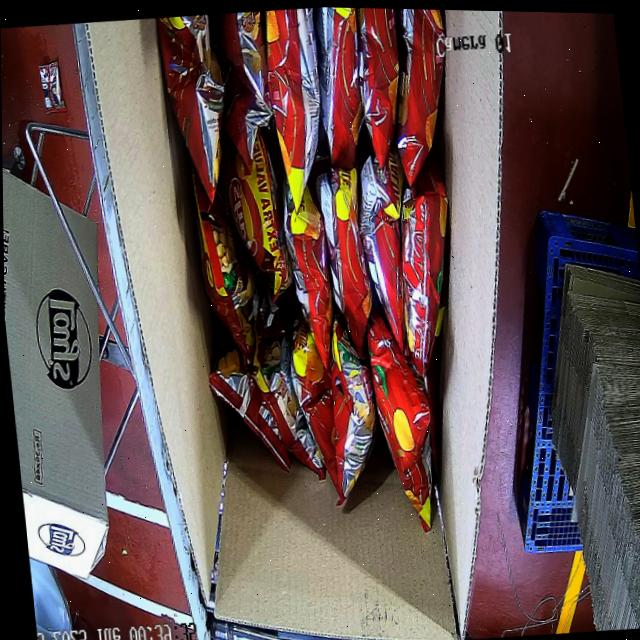MASALA: (154, 3, 494, 550)
